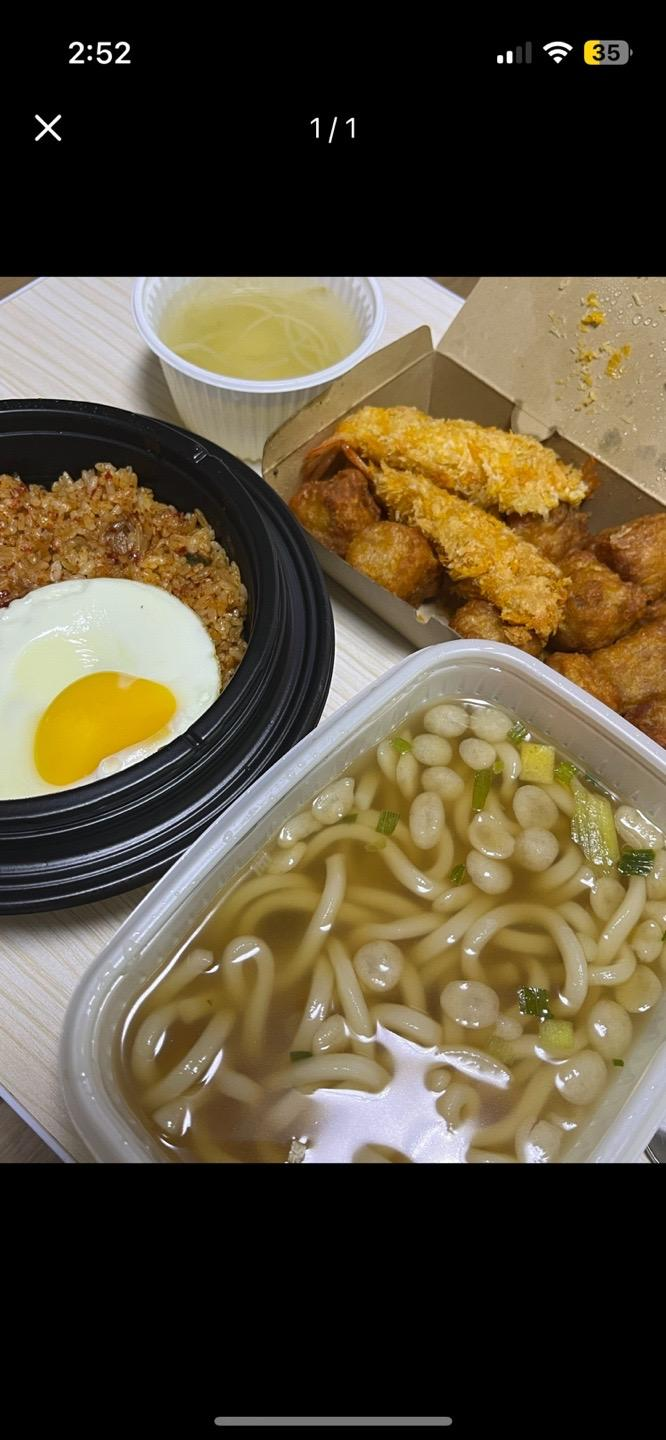Lunch Box: (62, 642, 665, 1163), (263, 277, 665, 744), (0, 400, 334, 914), (133, 277, 383, 461)
